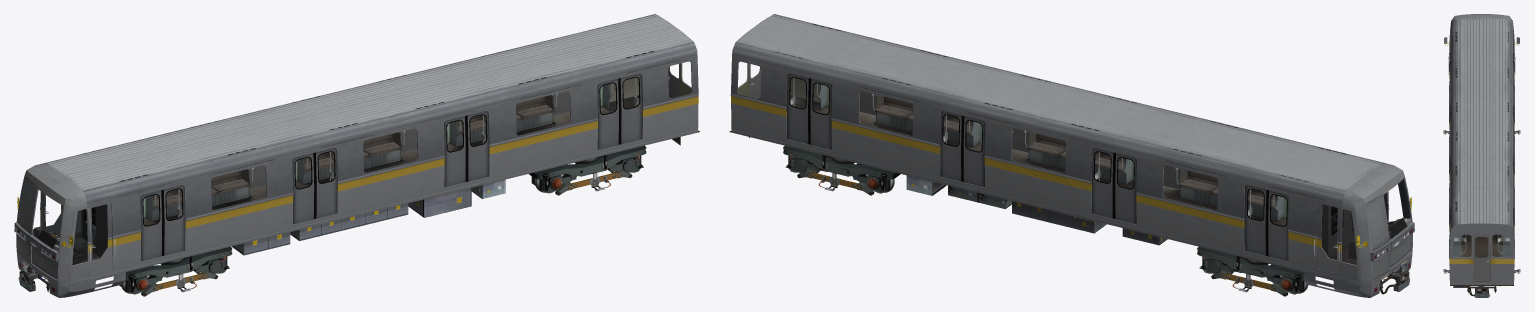
The model's file is 81-720_yauza (1).glb.
3 views of the same model, side by side, from view 1: azimuth 30°, elevation 25°; view 2: azimuth 150°, elevation 25°; view 3: azimuth 270°, elevation 25° (orthographic). The views are drawn at different scales.
Visible parts, largest first — view 1: Object_2, Object_3, Object_5, Object_7, Object_6, Object_9, Object_10; view 2: Object_2, Object_3, Object_5, Object_7, Object_6, Object_9, Object_10, Object_4; view 3: Object_2, Object_3, Object_4, Object_5.
Boxes of the visible parts, bbox=[...] form: Object_2: bbox=[14, 14, 698, 297]; Object_3: bbox=[31, 63, 691, 264]; Object_5: bbox=[140, 73, 699, 261]; Object_7: bbox=[529, 145, 646, 195]; Object_6: bbox=[119, 246, 232, 296]; Object_9: bbox=[34, 204, 107, 257]; Object_10: bbox=[248, 91, 569, 189]; Object_2: bbox=[730, 14, 1414, 297]; Object_3: bbox=[738, 63, 1410, 275]; Object_5: bbox=[729, 73, 1288, 261]; Object_7: bbox=[783, 145, 900, 195]; Object_6: bbox=[1197, 246, 1308, 296]; Object_9: bbox=[1321, 204, 1410, 259]; Object_10: bbox=[859, 91, 1180, 189]; Object_4: bbox=[749, 137, 1409, 294]; Object_2: bbox=[1444, 14, 1519, 287]; Object_3: bbox=[1450, 85, 1513, 279]; Object_4: bbox=[1467, 284, 1496, 297]; Object_5: bbox=[1449, 54, 1514, 285].
Size of what is drawn, in the model's own units: 22.2 by 3.91 by 3.23.
6 materials, 5 textured.
